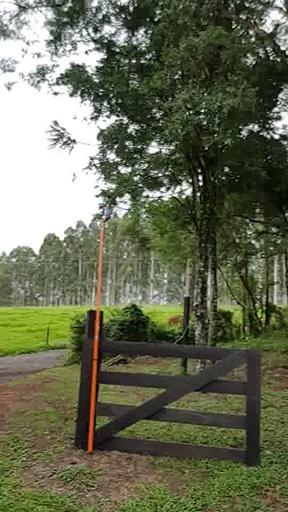Vara_Manobra: (87, 225, 106, 454)
